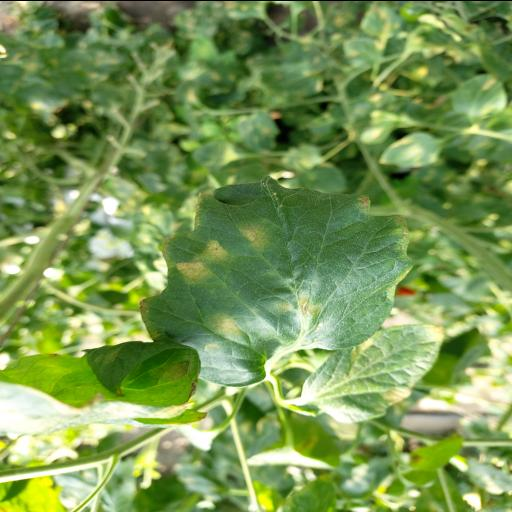disease_tomato: (136, 175, 418, 387), (298, 323, 446, 421)
